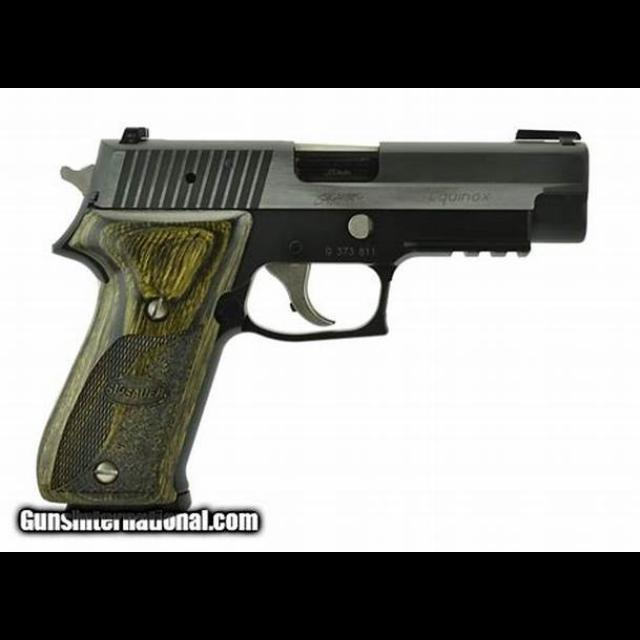handgun: (32, 122, 596, 524)
